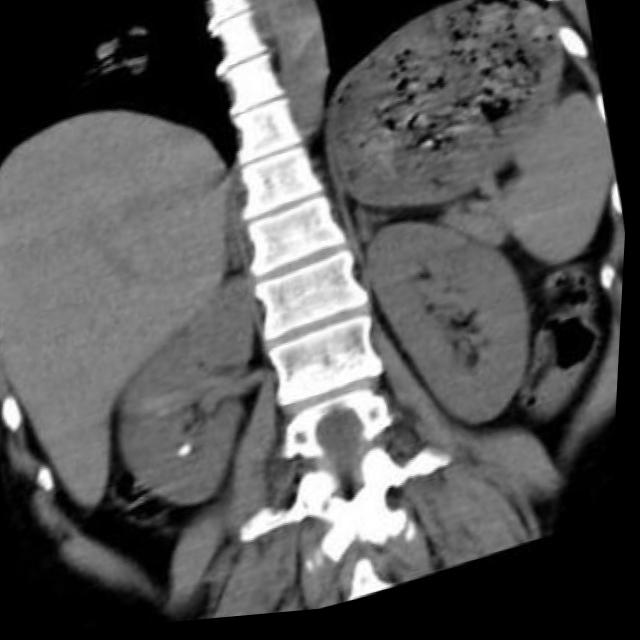Tas_Var: (177, 439, 205, 469)
